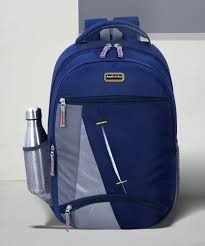backpack: (22, 15, 180, 229)
